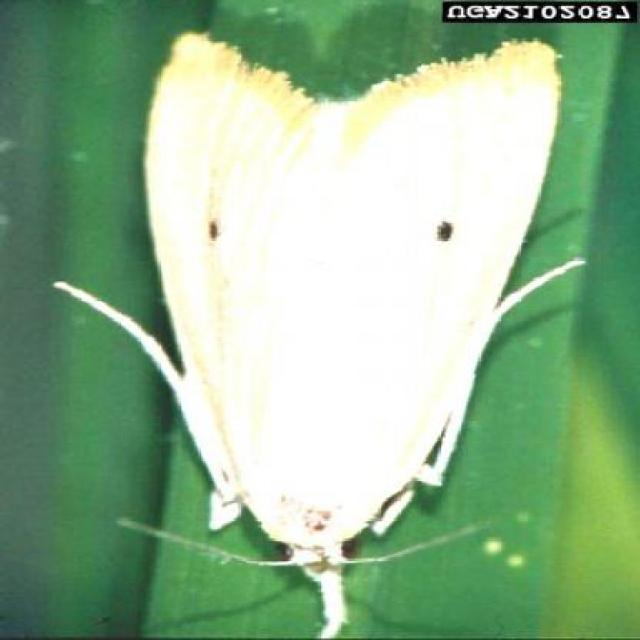stem-borer: (97, 26, 580, 640)
